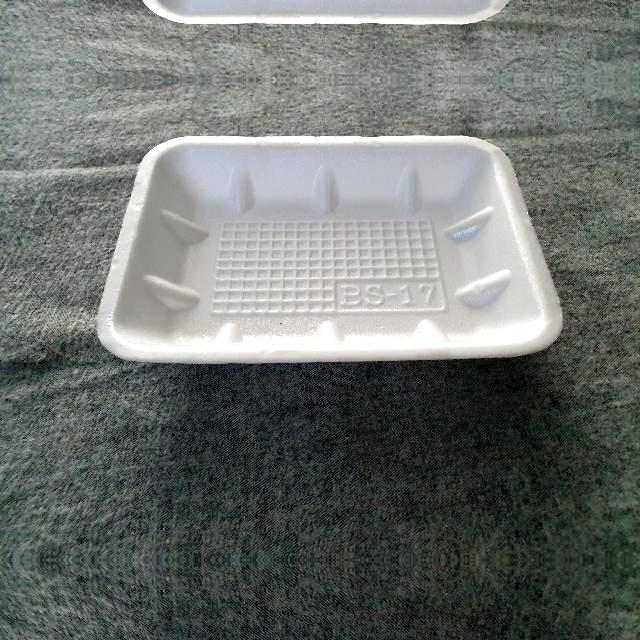Styrofoam: (96, 134, 566, 364), (97, 135, 563, 363)
